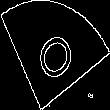O_SW: (30, 22, 80, 88)
